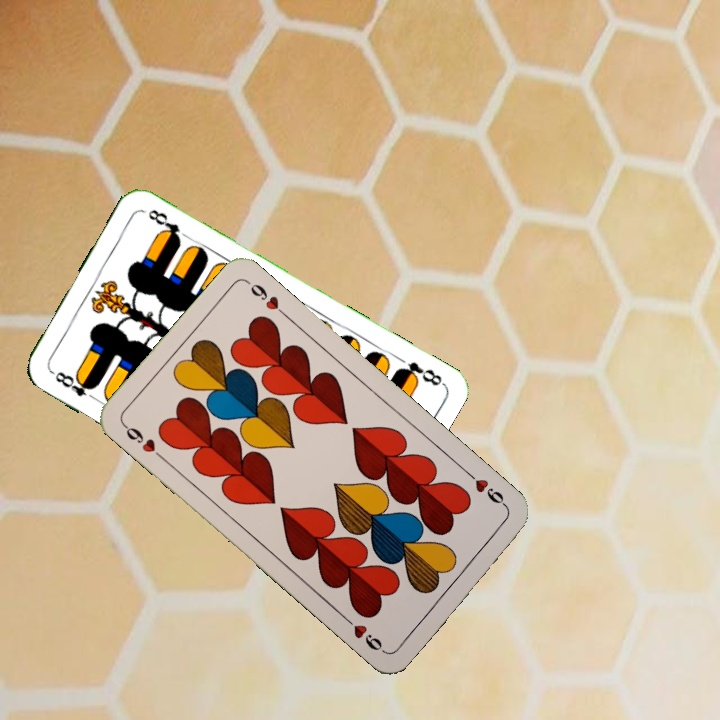E8: (47, 367, 101, 404), (392, 357, 446, 389)
H9: (462, 467, 511, 511), (119, 420, 168, 463)
